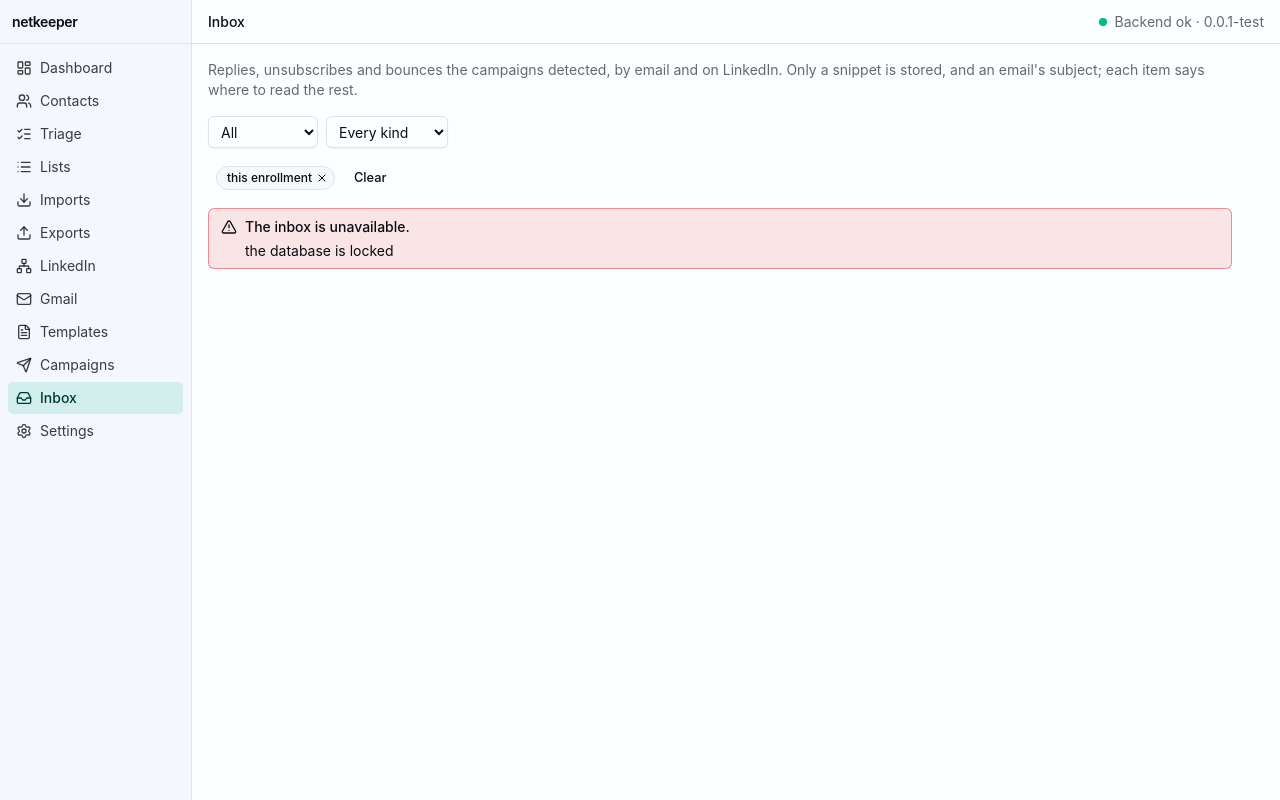
Test: inbox › still lets you drop the enrollment when its page fails
Expected: the navigation bar named "Primary" is shown, [0,44,191,455]
Click the button with aria-label "Remove this enrollment". click: (276, 178)
box: [216,166,335,190]
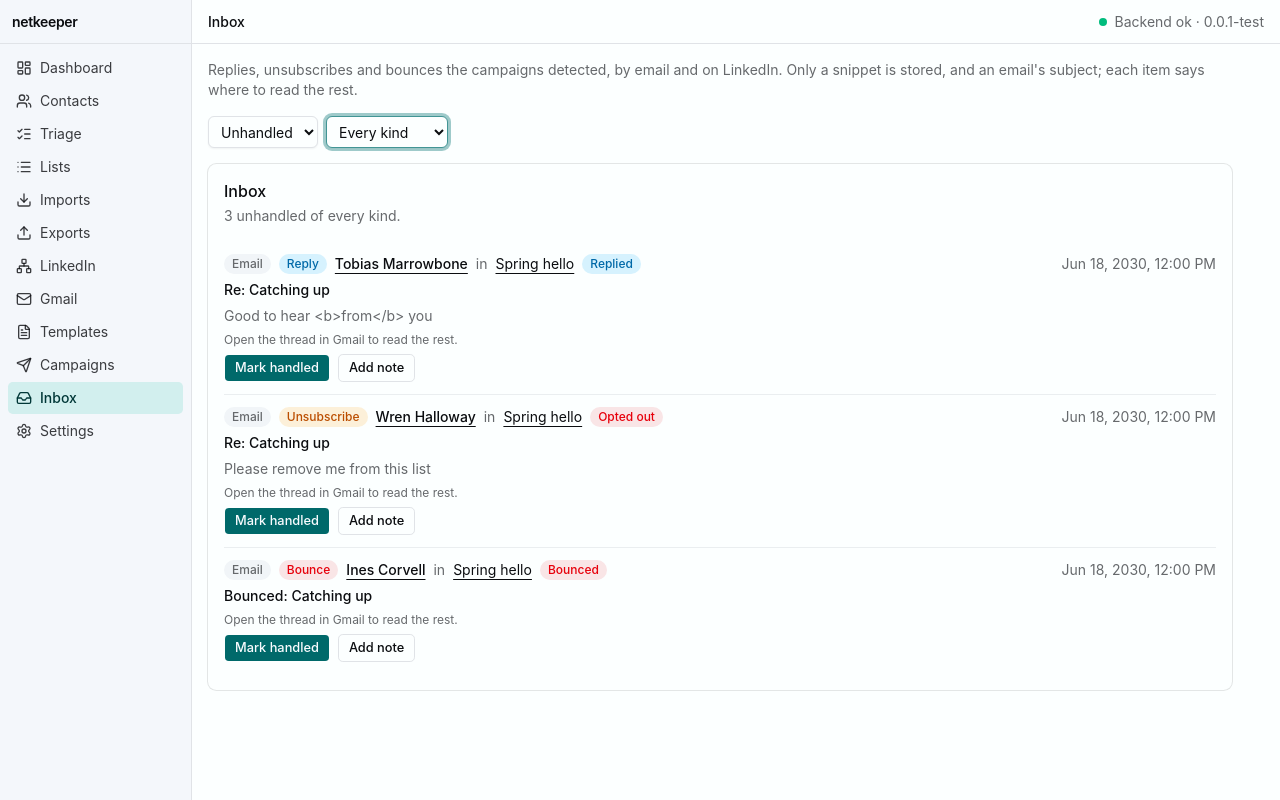
Result: the list item with aria-label "Reply from Tobias" is shown at [224,242,1216,394]
